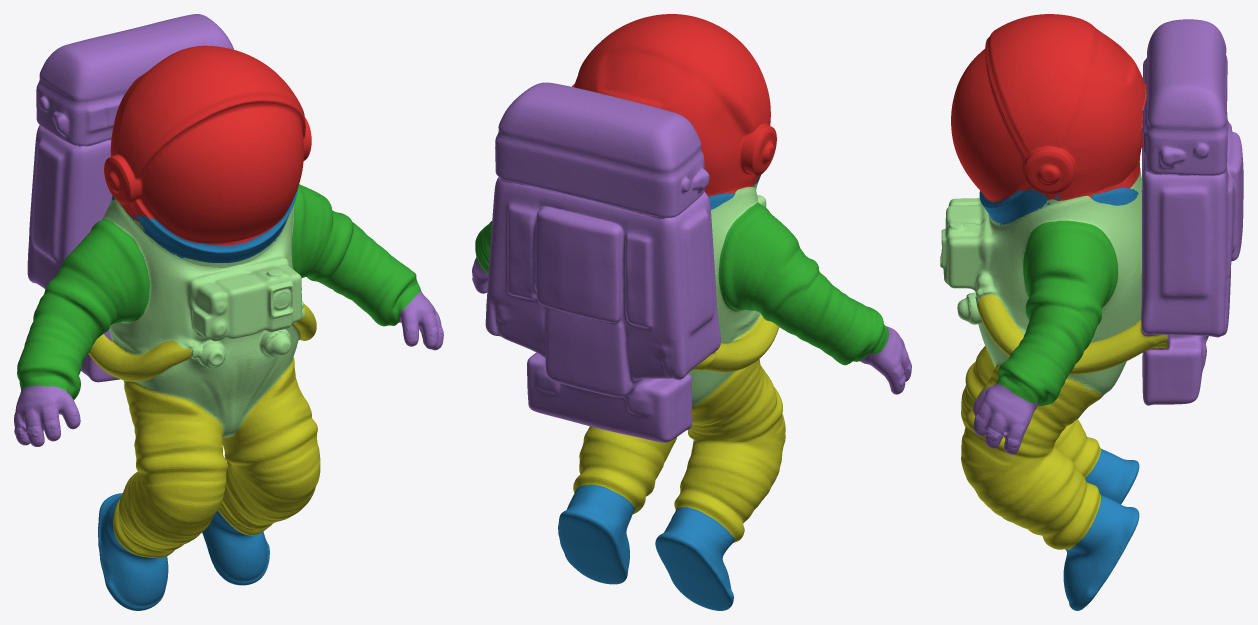
File: astronaut.glb
The picture shows the model from 3 angles, left to right: view 1: azimuth 30°, elevation 25°; view 2: azimuth 150°, elevation 25°; view 3: azimuth 270°, elevation 25°; orthographic projection. The views are drawn at different scales.
Visible parts, largest first — view 1: model_part11, model_part3, model_part12, model_part13, model_part1, model_part7, model_part4, model_part5, model_part0, model_part10, model_part2, model_part8; view 2: model_part13, model_part11, model_part3, model_part1, model_part5, model_part4, model_part12, model_part2, model_part0, model_part7; view 3: model_part13, model_part11, model_part12, model_part3, model_part7, model_part5, model_part6, model_part8, model_part4, model_part10, model_part9.
Part boxes in pixels (x1=…): model_part11: x1=104, y1=45, x2=311, y2=245; model_part3: x1=113, y1=357, x2=320, y2=558; model_part12: x1=102, y1=198, x2=304, y2=437; model_part13: x1=27, y1=14, x2=234, y2=382; model_part1: x1=17, y1=218, x2=149, y2=399; model_part7: x1=291, y1=184, x2=420, y2=326; model_part4: x1=98, y1=493, x2=168, y2=610; model_part5: x1=202, y1=511, x2=269, y2=585; model_part0: x1=14, y1=386, x2=80, y2=446; model_part10: x1=131, y1=186, x2=298, y2=262; model_part2: x1=88, y1=334, x2=192, y2=381; model_part8: x1=399, y1=291, x2=443, y2=350; model_part13: x1=485, y1=82, x2=720, y2=442; model_part11: x1=572, y1=14, x2=776, y2=197; model_part3: x1=573, y1=359, x2=785, y2=542; model_part1: x1=718, y1=202, x2=888, y2=365; model_part5: x1=558, y1=484, x2=634, y2=584; model_part4: x1=655, y1=507, x2=734, y2=610; model_part12: x1=689, y1=183, x2=766, y2=406; model_part2: x1=686, y1=315, x2=779, y2=374; model_part0: x1=860, y1=326, x2=911, y2=394; model_part7: x1=475, y1=221, x2=492, y2=274; model_part13: x1=1141, y1=19, x2=1243, y2=405; model_part11: x1=951, y1=14, x2=1146, y2=202; model_part12: x1=940, y1=170, x2=1142, y2=396; model_part3: x1=961, y1=346, x2=1102, y2=549; model_part7: x1=995, y1=220, x2=1117, y2=406; model_part5: x1=1063, y1=495, x2=1139, y2=610; model_part6: x1=977, y1=294, x2=1168, y2=374; model_part8: x1=973, y1=384, x2=1038, y2=454; model_part4: x1=1085, y1=448, x2=1139, y2=504; model_part10: x1=979, y1=188, x2=1059, y2=225; model_part9: x1=1091, y1=187, x2=1141, y2=205.
Bounding box in the file's own units: 0.0959 × 0.12 × 0.0591.
